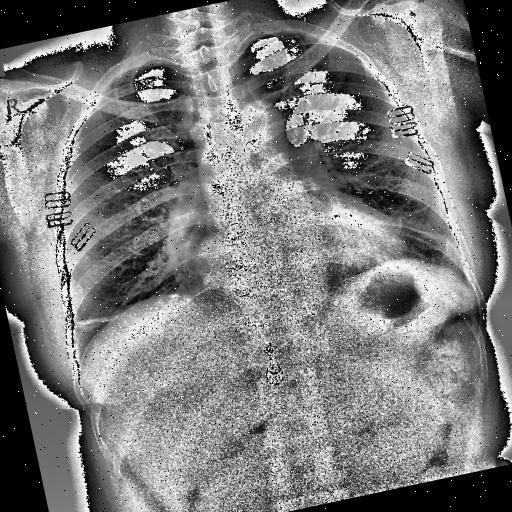0- Aortic enlargement: (224, 94, 290, 154), (230, 92, 290, 154)
13- Pulmonary fibrosis: (379, 206, 444, 260), (378, 203, 440, 250), (390, 202, 440, 248), (72, 306, 124, 334), (75, 310, 119, 330), (70, 312, 114, 329)
3- Cardiomegaly: (188, 206, 416, 316), (187, 200, 409, 305), (186, 202, 406, 305)
